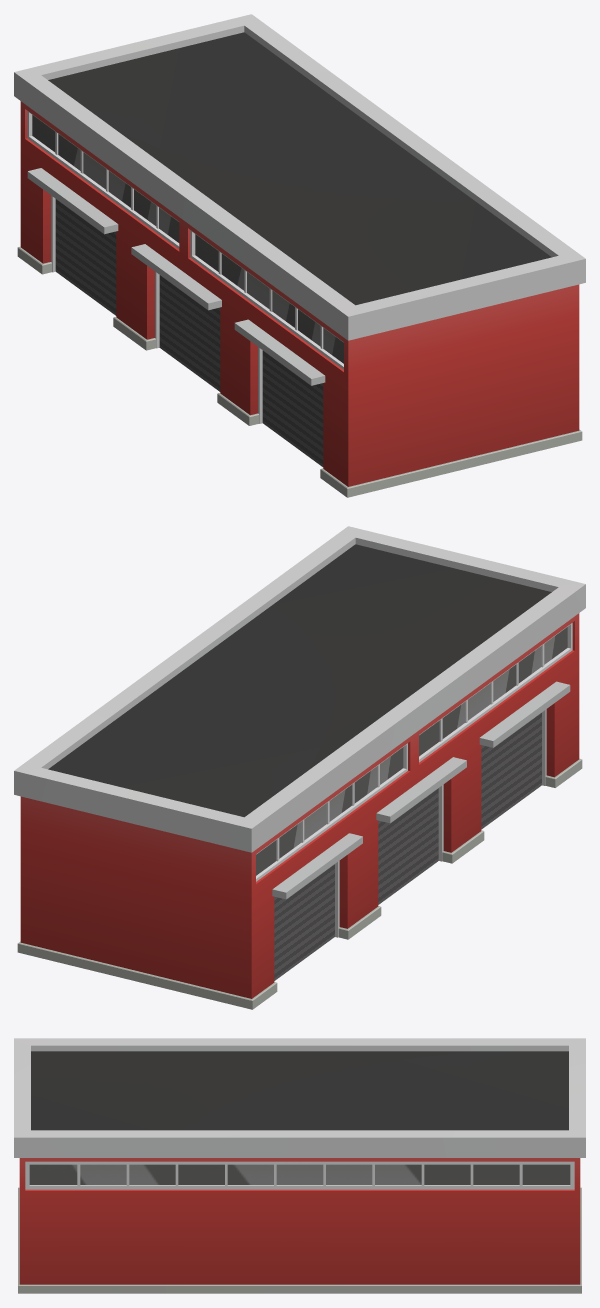
The model's file is Building_Fabric_3_A.glb.
3 renders of one model, top to bottom at view 1: azimuth 30°, elevation 25°; view 2: azimuth 150°, elevation 25°; view 3: azimuth 270°, elevation 25°, orthographic. The views are drawn at different scales.
Parts seen in each view (by area): view 1: Building_Fabric_3_A; view 2: Building_Fabric_3_A; view 3: Building_Fabric_3_A.
Boxes of the visible parts, x1,y1,x2,y2 form: Building_Fabric_3_A: (14, 14, 585, 497); Building_Fabric_3_A: (14, 526, 585, 1009); Building_Fabric_3_A: (14, 1038, 585, 1293).
Bounding box in the file's own units: 6.57 × 4.62 × 15.31.
3 materials, 3 textured.
